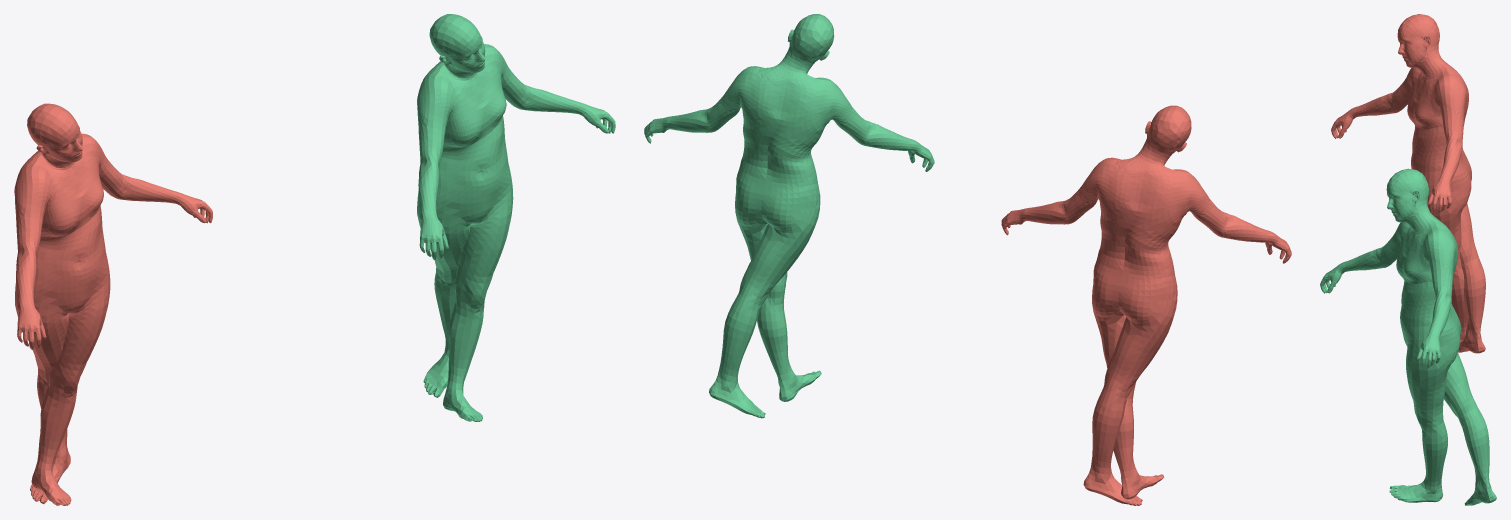
File: pose_335_before_after.glb
3 renders of one model, left to right at view 1: azimuth 30°, elevation 25°; view 2: azimuth 150°, elevation 25°; view 3: azimuth 270°, elevation 25°, orthographic. The views are drawn at different scales.
Visible parts, largest first — view 1: poseshield_green, input_red; view 2: poseshield_green, input_red; view 3: poseshield_green, input_red.
Part boxes in pixels (x1,y1,x2,y2): poseshield_green: (417, 14, 615, 421); input_red: (14, 103, 212, 505); poseshield_green: (644, 14, 934, 418); input_red: (1001, 105, 1291, 505); poseshield_green: (1320, 168, 1496, 505); input_red: (1331, 14, 1485, 353).
Size of what is drawn, in the model's own units: 2.78 by 1.71 by 0.8274.
